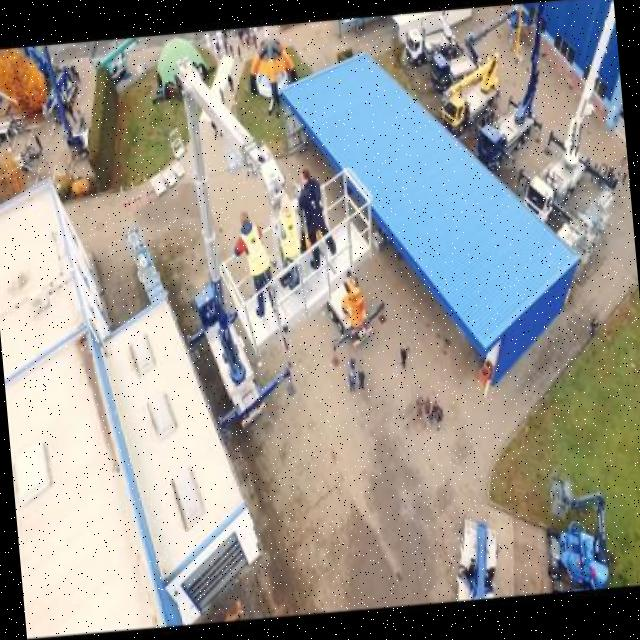Mobile Crane: (177, 41, 400, 442), (502, 0, 632, 226)
